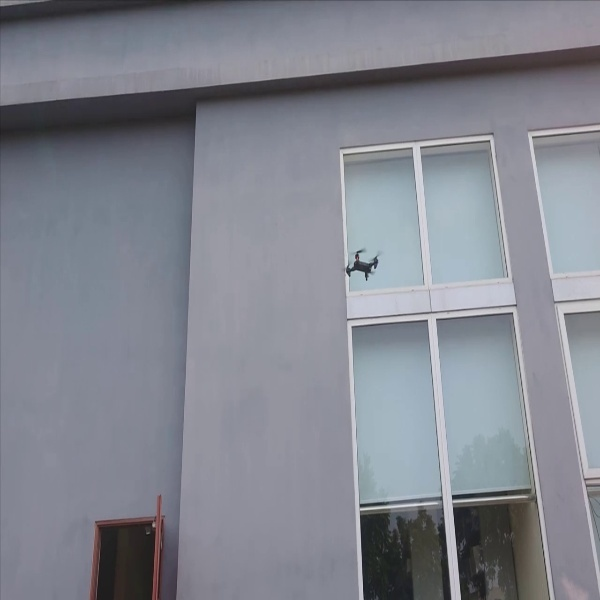drone: (337, 241, 383, 288)
